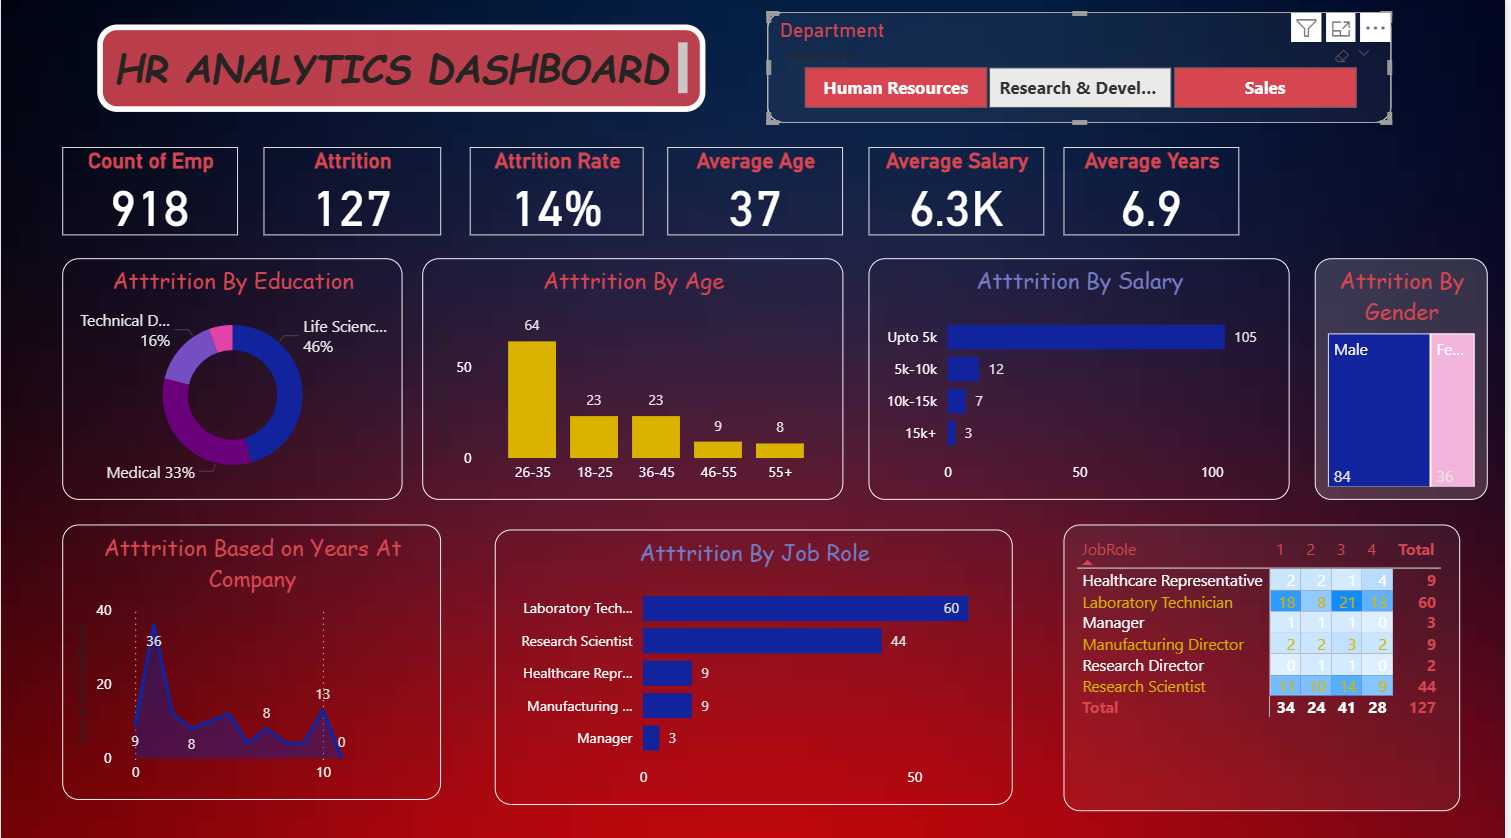

This screenshot's page, from the dashboard's own definition file:
{"tool":"powerbi","page":{"name":"Page 1","canvas":[1280,720],"ordinal":0},"visuals":[{"type":"card","title":"Count of Emp","fields":{"Values":["CountNonNull(HR_Analytics.EmpID)"]},"box":[52.1,127.6,149.6,75.5],"z":0},{"type":"card","title":"Attrition","fields":{"Values":["Sum(HR_Analytics.AttritionCount)","select"]},"box":[223.7,127.6,150.9,75.5],"z":1000},{"type":"card","title":"Attrition Rate","fields":{"Values":["HR_Analytics.AttritionRate"]},"box":[399.3,127.6,148.2,75.5],"z":2000},{"type":"card","title":"Average Age","fields":{"Values":["Avg(HR_Analytics.Age)"]},"box":[566.7,127.6,149.6,75.5],"z":3000},{"type":"card","title":"Average Years","fields":{"Values":["Avg(HR_Analytics.YearsAtCompany)"]},"box":[904.3,127.6,149.6,75.5],"z":4000},{"type":"card","title":"Average Salary","fields":{"Values":["Avg(HR_Analytics.MonthlyIncome)"]},"box":[738.3,127.6,149.6,75.5],"z":5000},{"type":"donutChart","title":"Atttrition By Education","fields":{"Category":["HR_Analytics.EducationField"],"Y":["Sum(HR_Analytics.AttritionCount)"]},"box":[52.1,222.3,289.5,205.8],"z":6000},{"type":"columnChart","title":"Atttrition By Age","fields":{"Category":["HR_Analytics.AgeGroup"],"Y":["Sum(HR_Analytics.AttritionCount)"]},"box":[358.1,222.3,358.1,205.8],"z":7000},{"type":"pivotTable","fields":{"Rows":["HR_Analytics.JobRole"],"Columns":["HR_Analytics.JobSatisfaction"],"Values":["Sum(HR_Analytics.AttritionCount)"]},"box":[904.3,448.7,337.6,244.3],"z":8000},{"type":"barChart","title":"Atttrition By Salary","fields":{"Category":["HR_Analytics.SalarySlab"],"Y":["Sum(HR_Analytics.AttritionCount)"]},"box":[738.3,222.3,358.1,205.8],"z":9000},{"type":"barChart","title":"Atttrition By Job Role","fields":{"Category":["HR_Analytics.JobRole"],"Y":["Sum(HR_Analytics.AttritionCount)"]},"box":[419.9,452.8,440.5,234.6],"z":10000},{"type":"areaChart","title":"Atttrition Based on Years At Company","fields":{"Category":["HR_Analytics.YearsAtCompany"],"Y":["Sum(HR_Analytics.AttritionCount)"]},"box":[52.1,448.7,322.5,234.6],"z":11000},{"type":"treemap","title":"Attrition By Gender","fields":{"Group":["HR_Analytics.Gender"],"Values":["Sum(HR_Analytics.AttritionCount)"]},"box":[1118.4,222.3,146.8,205.8],"z":12000},{"type":"slicer","title":"Department","fields":{"Values":["HR_Analytics.Department"]},"box":[651.8,12.3,531,94.7],"z":13000},{"type":"textbox","box":[82.3,23.3,517.3,74.1],"z":13001}]}

Visuals, with their boxes in screenshot pixels (x1, y1, x2, y2), scaled from the page's 1280x720 canvas onto the 1511x838 screenshot:
"Count of Emp" card: {"left": 62, "top": 149, "right": 238, "bottom": 236}
"Attrition" card: {"left": 264, "top": 149, "right": 442, "bottom": 236}
"Attrition Rate" card: {"left": 471, "top": 149, "right": 646, "bottom": 236}
"Average Age" card: {"left": 669, "top": 149, "right": 846, "bottom": 236}
"Average Years" card: {"left": 1067, "top": 149, "right": 1244, "bottom": 236}
"Average Salary" card: {"left": 872, "top": 149, "right": 1048, "bottom": 236}
"Atttrition By Education" donutChart: {"left": 62, "top": 259, "right": 403, "bottom": 498}
"Atttrition By Age" columnChart: {"left": 423, "top": 259, "right": 845, "bottom": 498}
pivotTable - HR_Analytics.JobRole x HR_Analytics.JobSatisfaction: {"left": 1067, "top": 522, "right": 1466, "bottom": 807}
"Atttrition By Salary" barChart: {"left": 872, "top": 259, "right": 1294, "bottom": 498}
"Atttrition By Job Role" barChart: {"left": 496, "top": 527, "right": 1016, "bottom": 800}
"Atttrition Based on Years At Company" areaChart: {"left": 62, "top": 522, "right": 442, "bottom": 795}
"Attrition By Gender" treemap: {"left": 1320, "top": 259, "right": 1494, "bottom": 498}
"Department" slicer: {"left": 769, "top": 14, "right": 1396, "bottom": 125}
textbox: {"left": 97, "top": 27, "right": 708, "bottom": 113}
